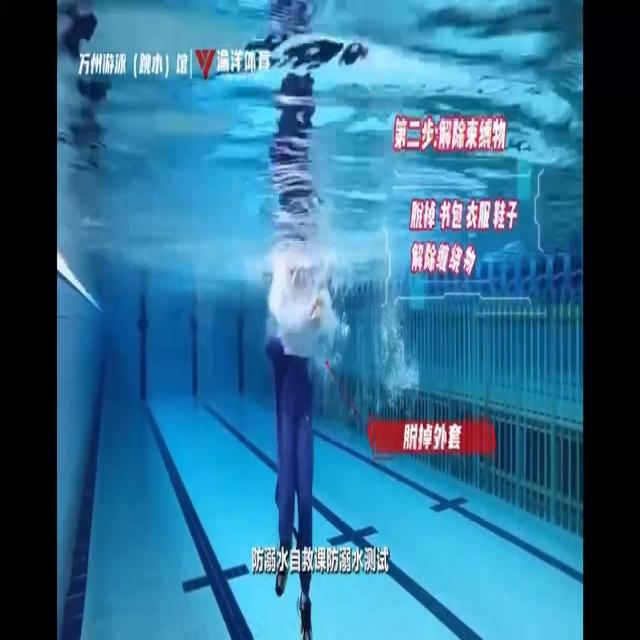Drowning: (263, 248, 336, 640)
